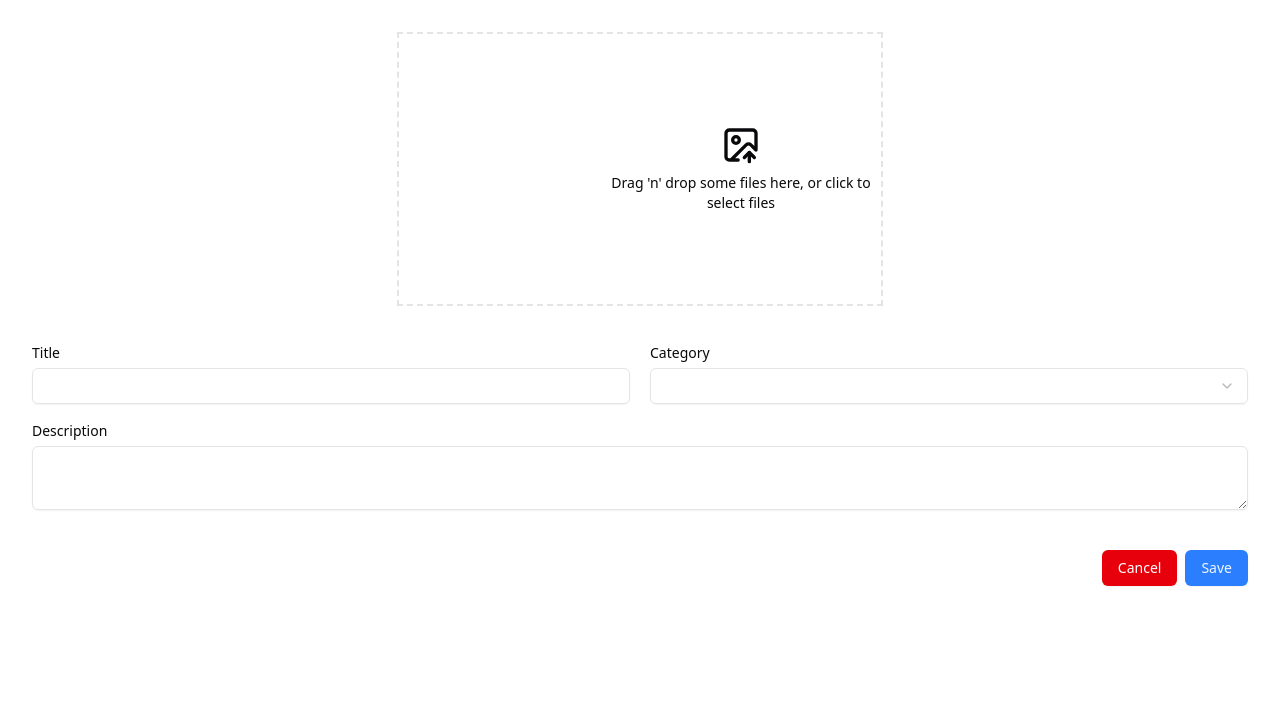
it: ArticleCreate › validates title length
This screenshot has width=1280, height=720.
Type "Short" into the field labelled "Title" at (331, 386), box [32,368,630,404]
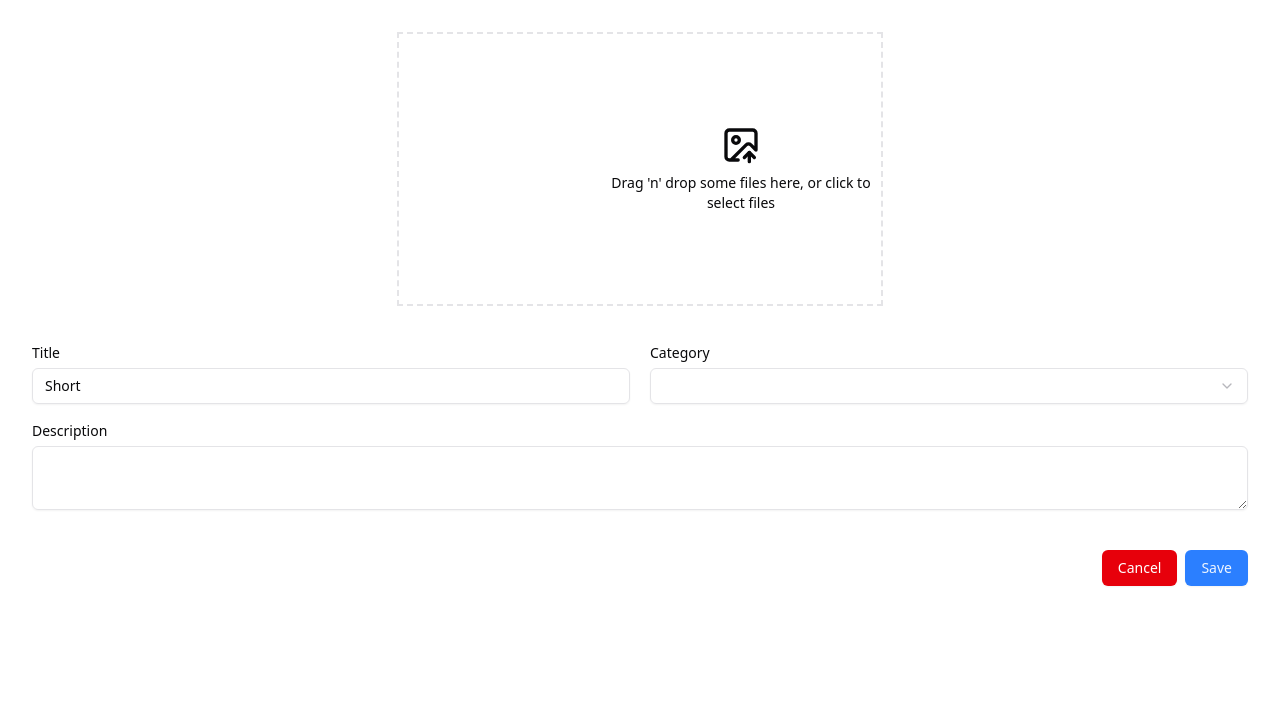
Click the button "Save" at (1217, 568), box [1185,550,1248,586]
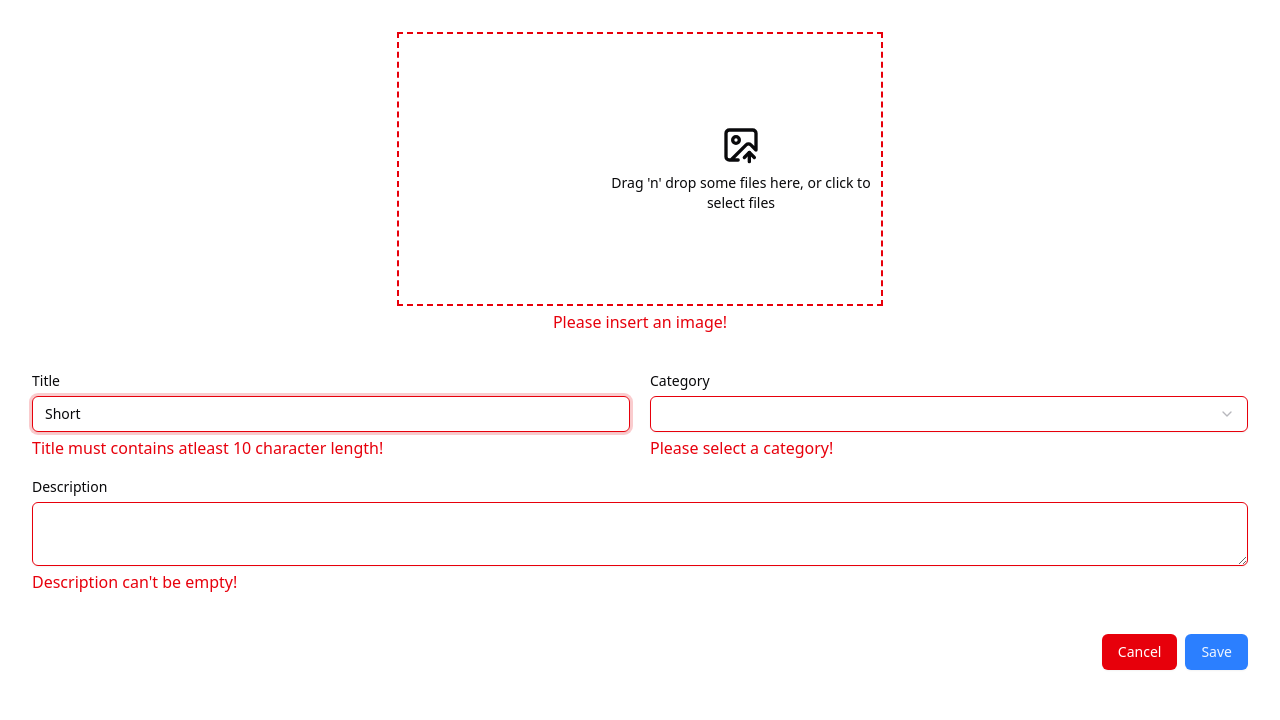
Expected: the text "Title must contains atleast 10 character length!" is shown, [32,437,383,459]
